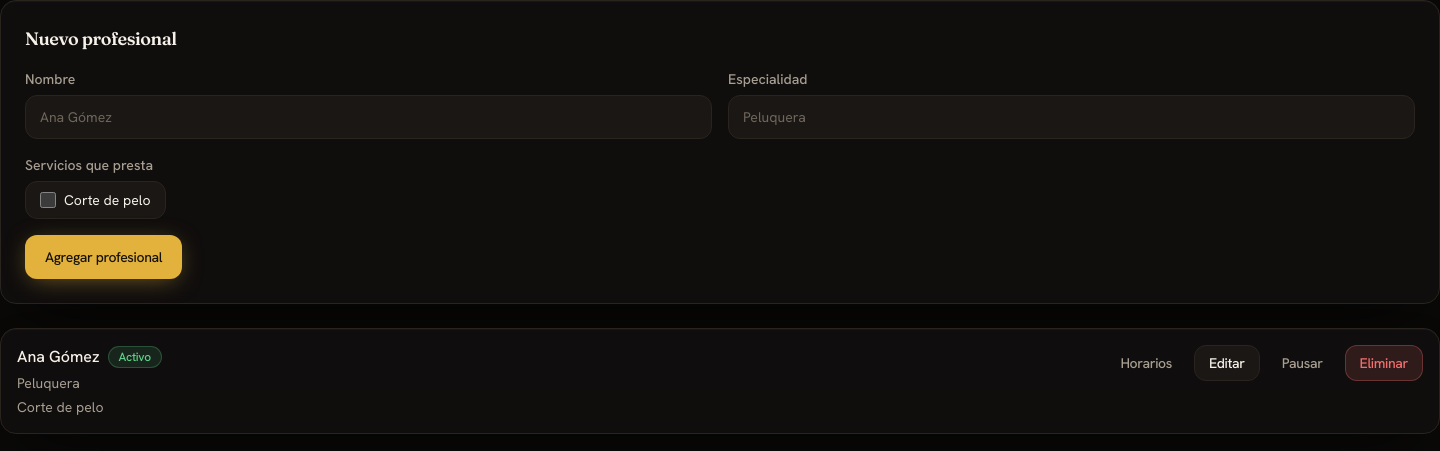
Test: StaffManager › loads the picked professional into the form when editing
Click the button "Editar": {"x": 1227, "y": 363} [1194,345,1260,381]
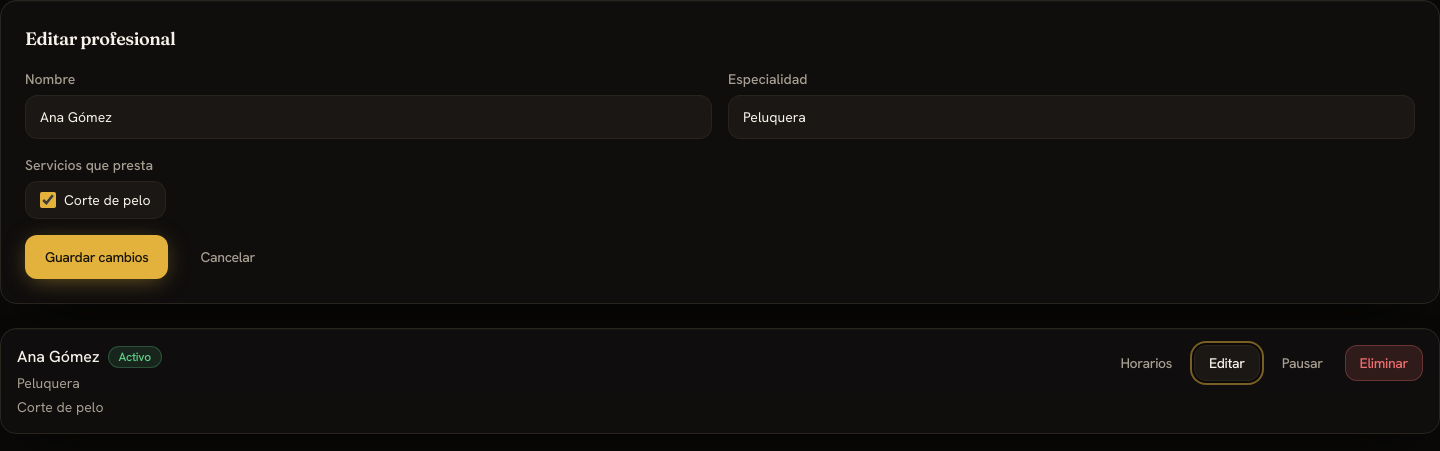
Expected: the heading "Editar profesional" is shown, [25,27,175,50]
Expected: the field labelled "Nombre" holds "Ana Gómez", [25,95,712,139]
Expected: the checkbox labelled "Corte de pelo" is checked, [40,192,56,208]
